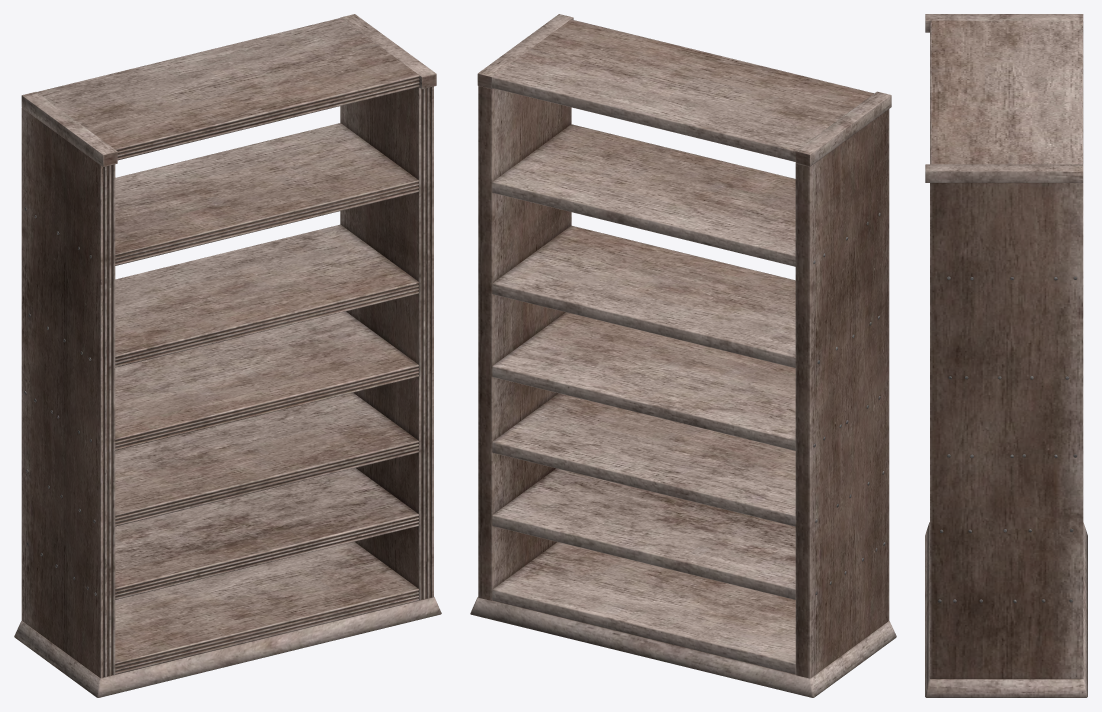
The model's file is wooden_bookshelf_worn.glb.
3 renders of one model, left to right at view 1: azimuth 30°, elevation 25°; view 2: azimuth 150°, elevation 25°; view 3: azimuth 270°, elevation 25°, orthographic. The views are drawn at different scales.
Visible parts, largest first — view 1: wooden_bookshelf_worn; view 2: wooden_bookshelf_worn; view 3: wooden_bookshelf_worn.
Boxes of the visible parts, x1,y1,x2,y2 form: wooden_bookshelf_worn: [14, 14, 441, 697]; wooden_bookshelf_worn: [470, 14, 896, 697]; wooden_bookshelf_worn: [925, 14, 1087, 697].
Size of the model in its own units: 1.37 by 2.06 by 0.5813.
1 material, 1 textured.
